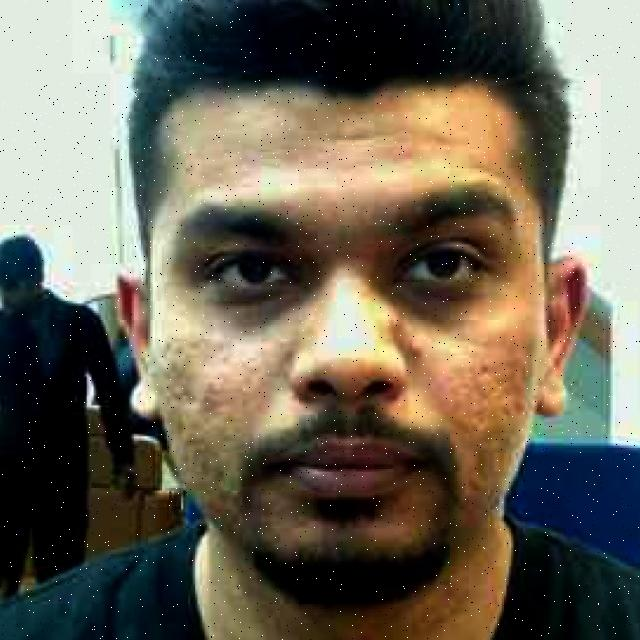puffy_eyes: (217, 265, 319, 326), (389, 280, 478, 332)
